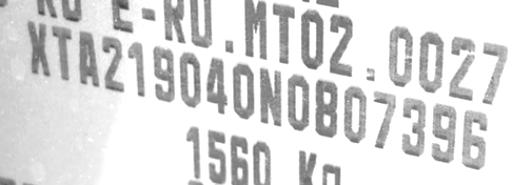letter: (457, 108, 493, 174), (396, 96, 428, 160), (310, 77, 340, 140), (430, 101, 458, 167), (368, 87, 396, 152), (256, 65, 284, 130), (285, 70, 311, 135), (72, 28, 100, 88), (342, 83, 368, 146), (150, 44, 176, 105), (230, 60, 256, 121), (176, 49, 202, 108), (99, 35, 125, 92), (204, 57, 230, 114), (25, 19, 51, 74), (124, 37, 148, 96), (50, 22, 72, 84)
